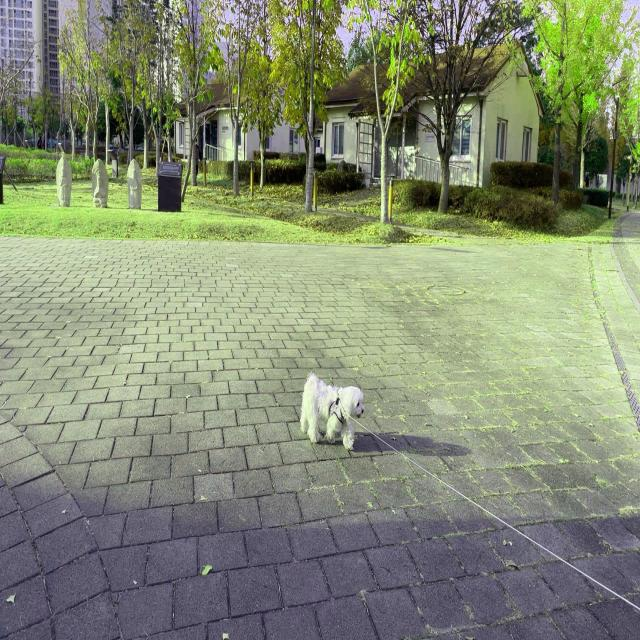Dog: (299, 369, 364, 453)
